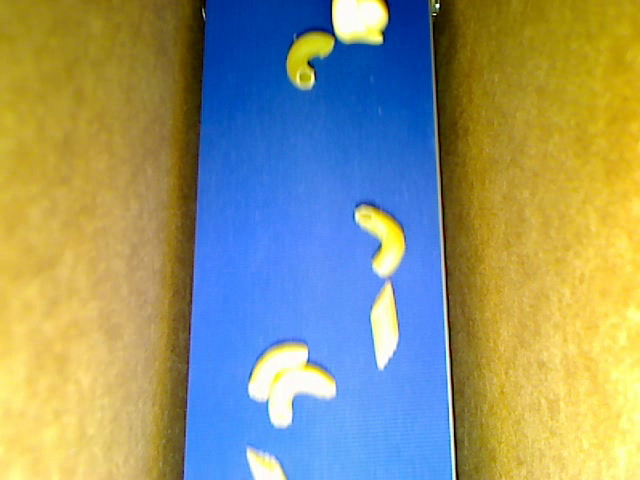elbow: (267, 364, 337, 428), (247, 341, 309, 403), (354, 204, 405, 278), (286, 33, 334, 89)
penne: (369, 277, 399, 372), (244, 446, 286, 479)
tortellini: (332, 1, 388, 46)
